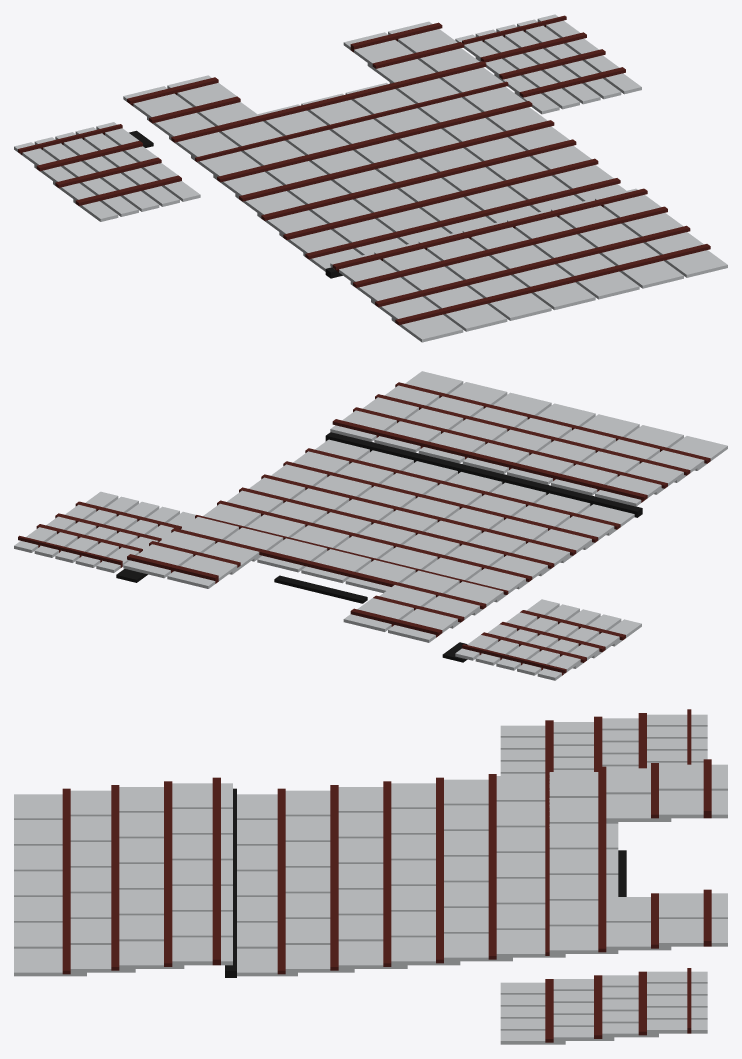
The model's file is armor_lamellar_lc.glb.
The picture shows the model from 3 angles, top to bottom: view 1: azimuth 30°, elevation 25°; view 2: azimuth 150°, elevation 25°; view 3: azimuth 270°, elevation 25°; orthographic projection. The views are drawn at different scales.
Visible parts, largest first — view 1: armor_lamellar_lc:compound; view 2: armor_lamellar_lc:compound; view 3: armor_lamellar_lc:compound.
Boxes of the visible parts, bbox=[...] form: armor_lamellar_lc:compound: bbox=[14, 14, 727, 342]; armor_lamellar_lc:compound: bbox=[14, 371, 727, 680]; armor_lamellar_lc:compound: bbox=[14, 709, 727, 1044].
Size of the model in its own units: 0.744 by 0.04 by 0.704.
